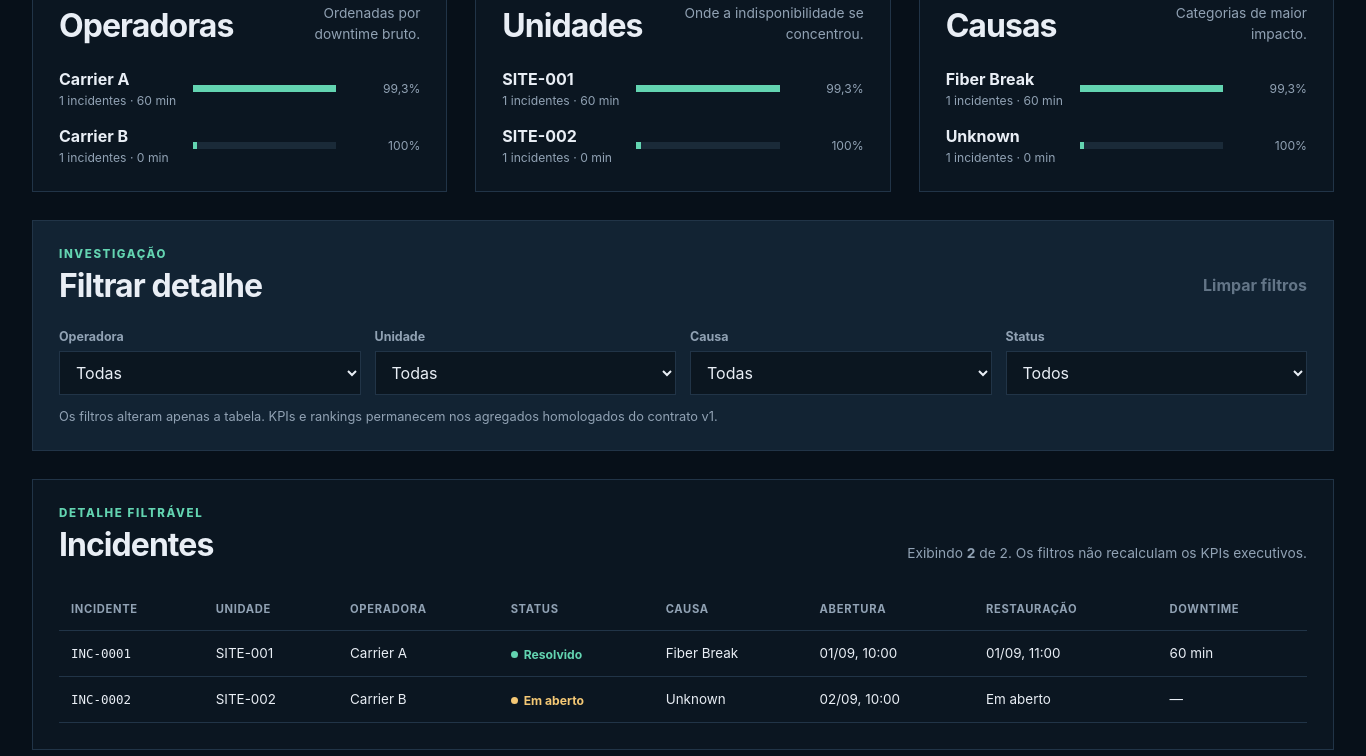
Scenario: TelecomPulse dashboard › filters incident detail without replacing executive KPI content
This screenshot has width=1366, height=756.
(page scrolled)
Expected: the text "INC-0001" is shown, [59,631,204,676]
Select "Carrier B" in the dropdown labelled "Operadora" at (210,373), box [59,351,360,395]
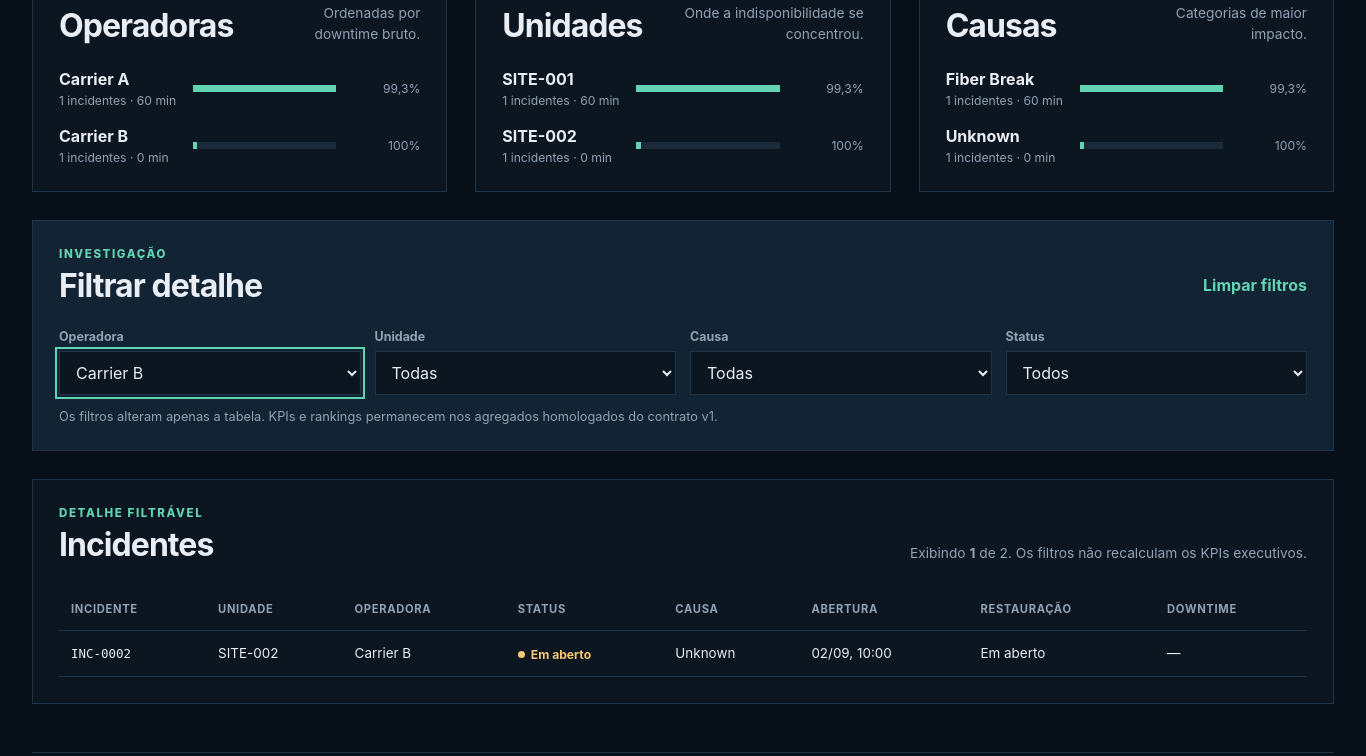
Expected: the text "INC-0002" is shown, [59,631,206,676]
Now the text "INC-0001" is gone
Now the text "Exibindo" shows "1 de 2", box [910,543,1307,564]
